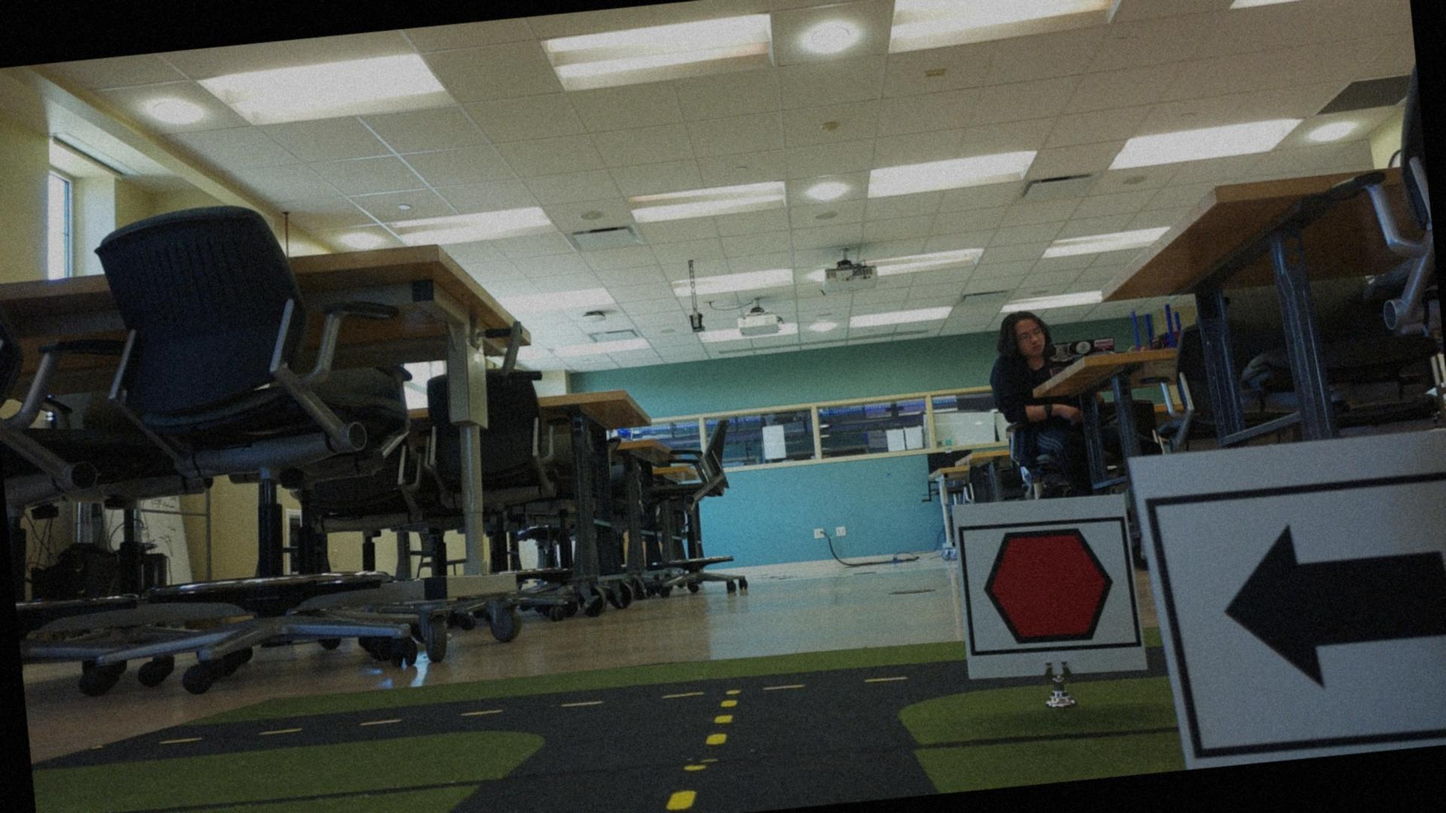stop: (958, 517, 1133, 658)
turnright: (1160, 475, 1445, 756)
yellowline: (656, 696, 749, 811)
